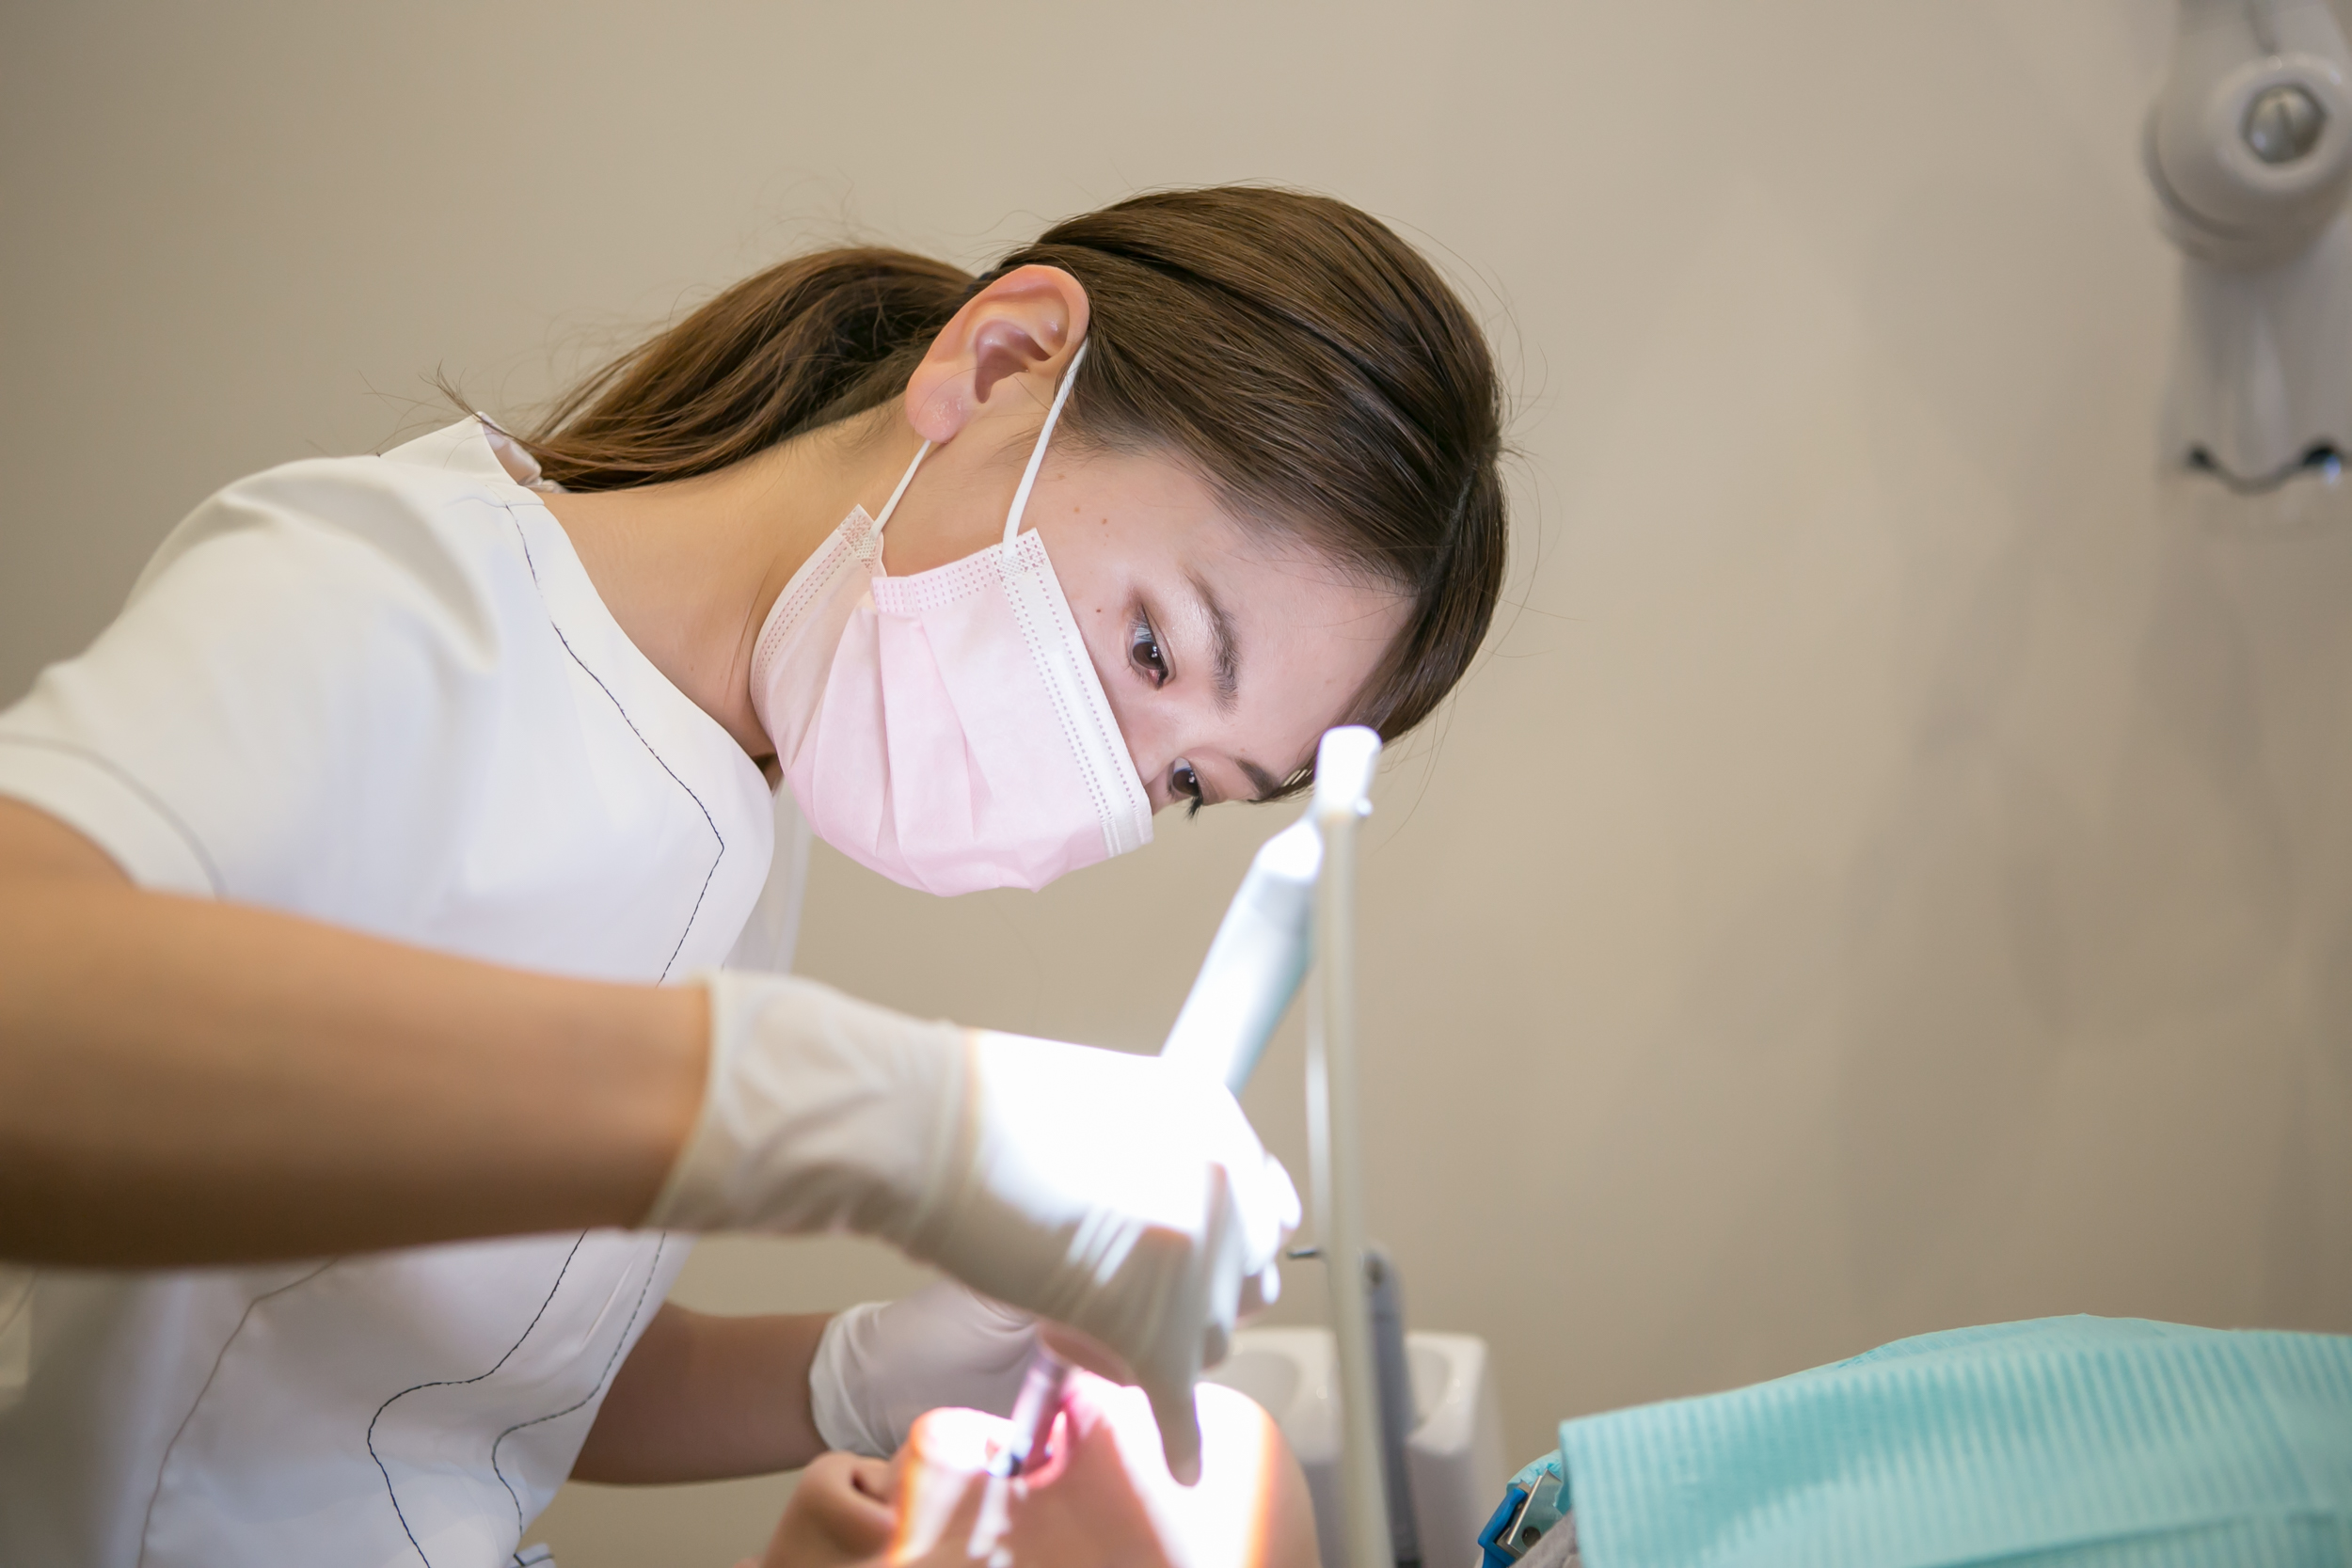mask: (735, 513, 1157, 898)
